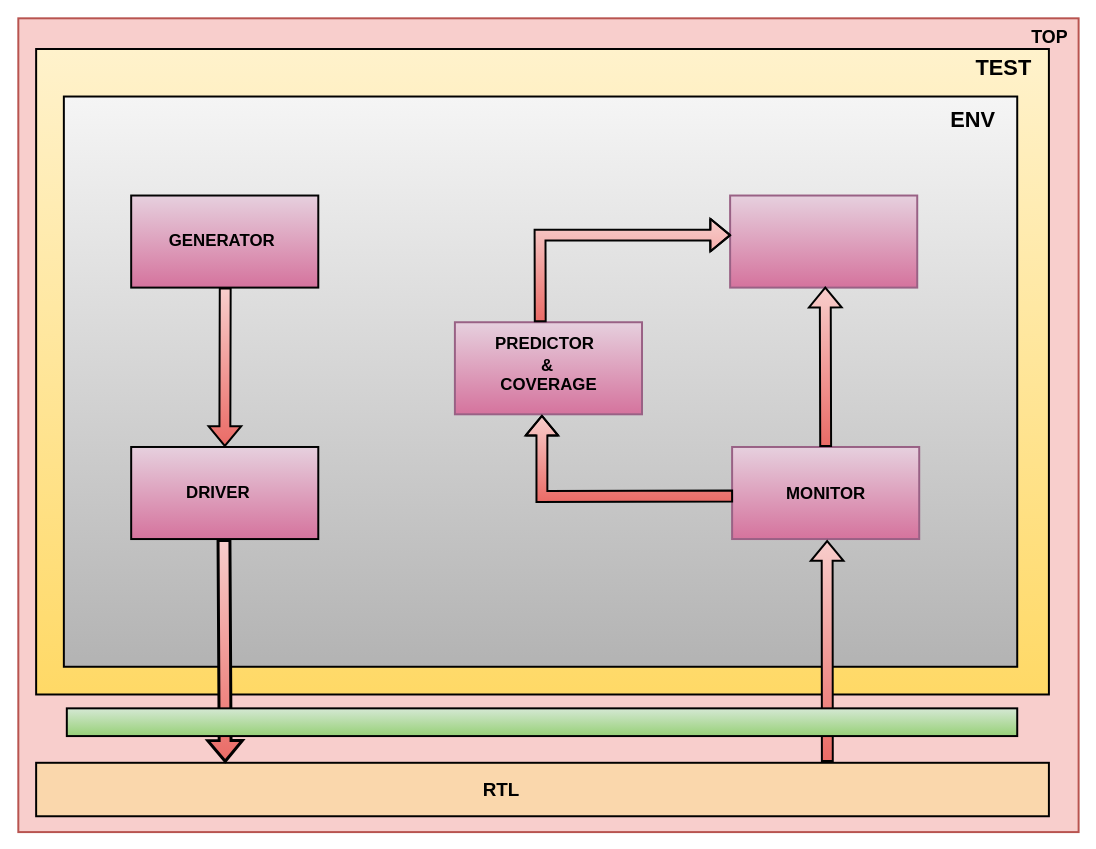
This 1096x849 diagram has some shape labels left out. Each missing label, with the box of its shape:
INTERFACE: (65, 707, 1018, 737)
SCOREBOARD: (729, 194, 918, 288)
